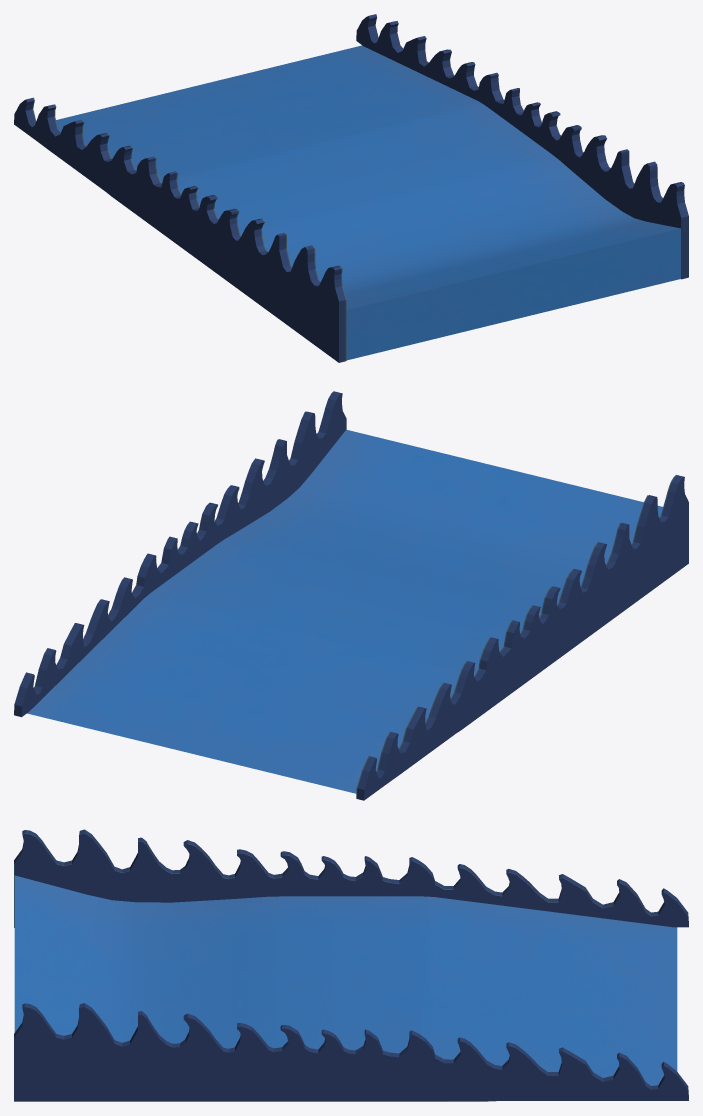
Rendered from Obstacle_Water.fbx.
The picture shows the model from 3 angles, top to bottom: view 1: azimuth 30°, elevation 25°; view 2: azimuth 150°, elevation 25°; view 3: azimuth 270°, elevation 25°; orthographic projection. The views are drawn at different scales.
Parts seen in each view (by area): view 1: Cube.002; view 2: Cube.002; view 3: Cube.002.
Part boxes in pixels (left/top/right/bottom): Cube.002: left=14, top=14, right=688, bottom=362; Cube.002: left=14, top=391, right=688, bottom=800; Cube.002: left=14, top=829, right=688, bottom=1101.
Bounding box in the file's own units: 515 × 128 × 828.
